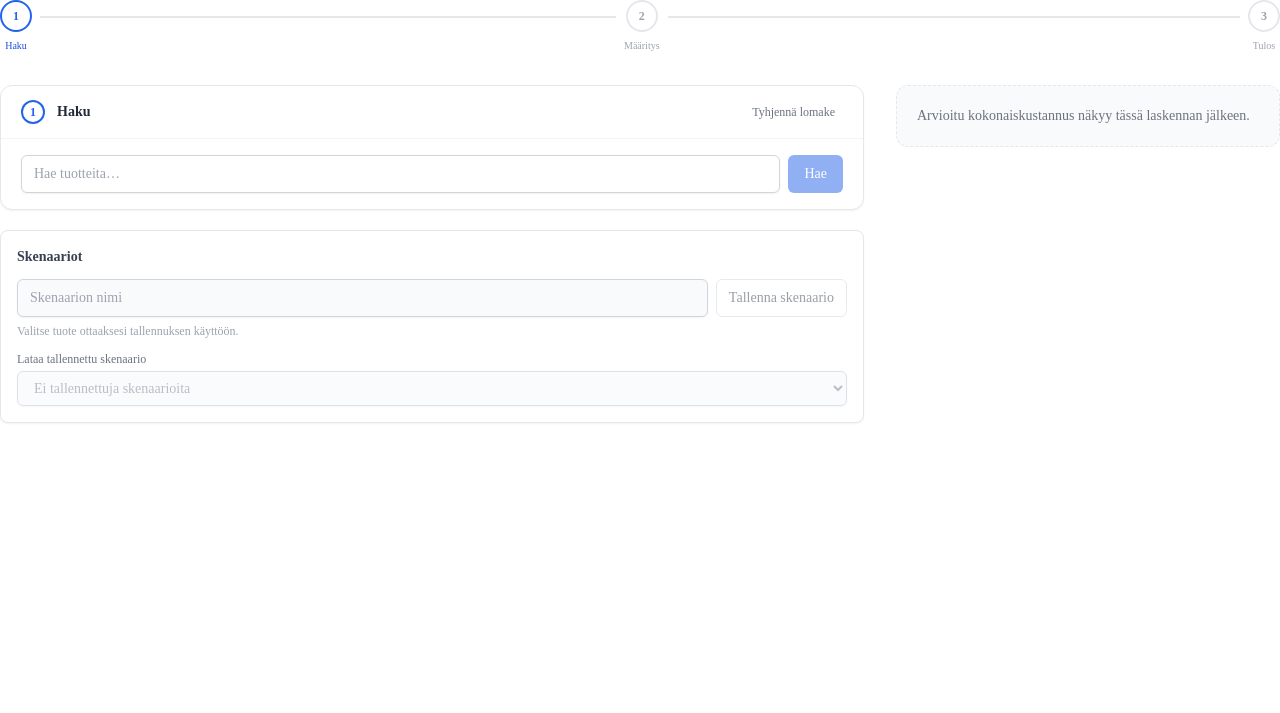
CalculatorPage age-gate recovery state (age-gate-recovery 3.4) › maps the age-gate 403 to the localized recovery copy and hides the raw message
This screenshot has width=1280, height=713.
Search → select the hit.
Type "renat" into the field with placeholder "Hae tuotteita…" at (401, 174), box [21,155,780,193]
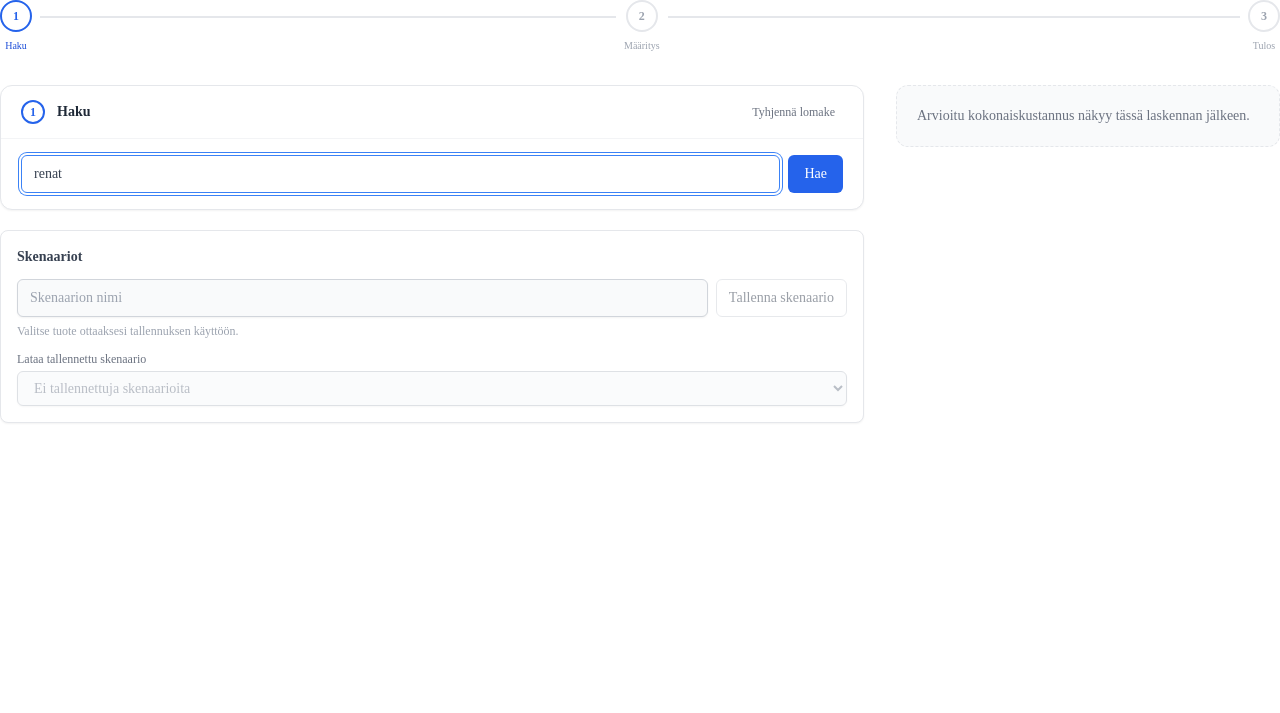
Click the button "Hae" at (816, 174), box [788,155,843,193]
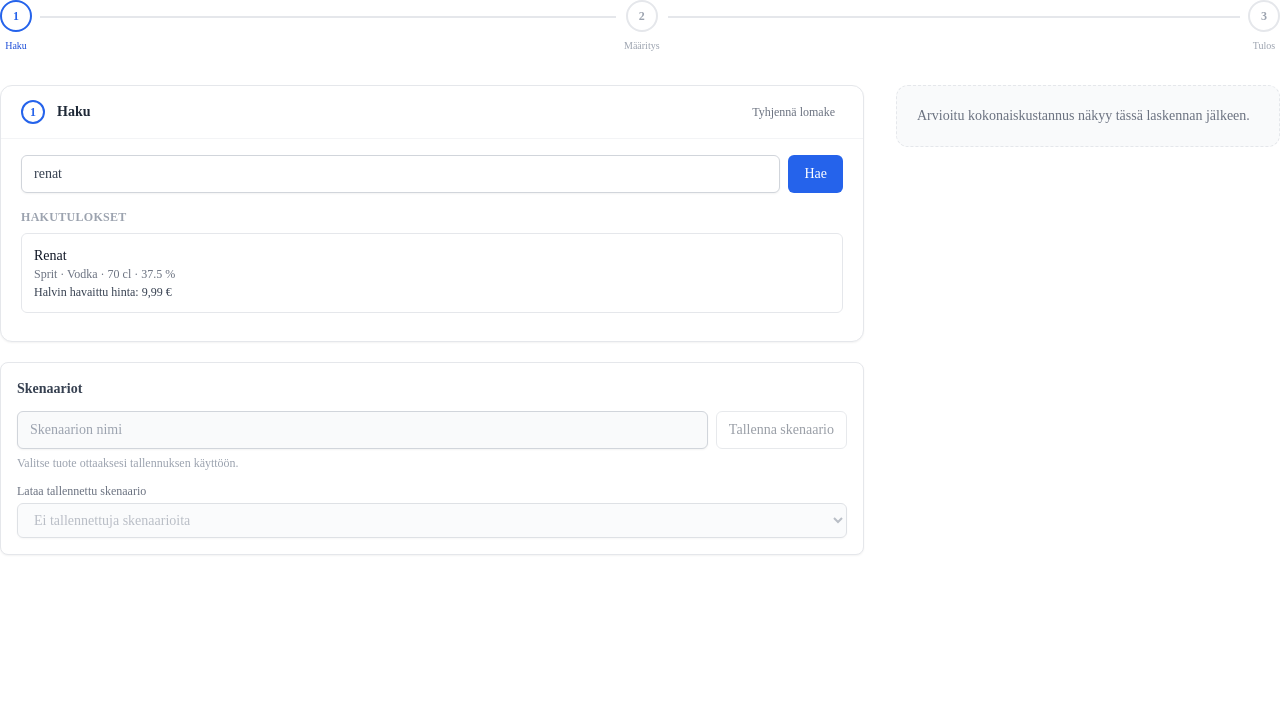
Click the button "Renat" at (50, 256), box [22,234,842,312]
(page scrolled)
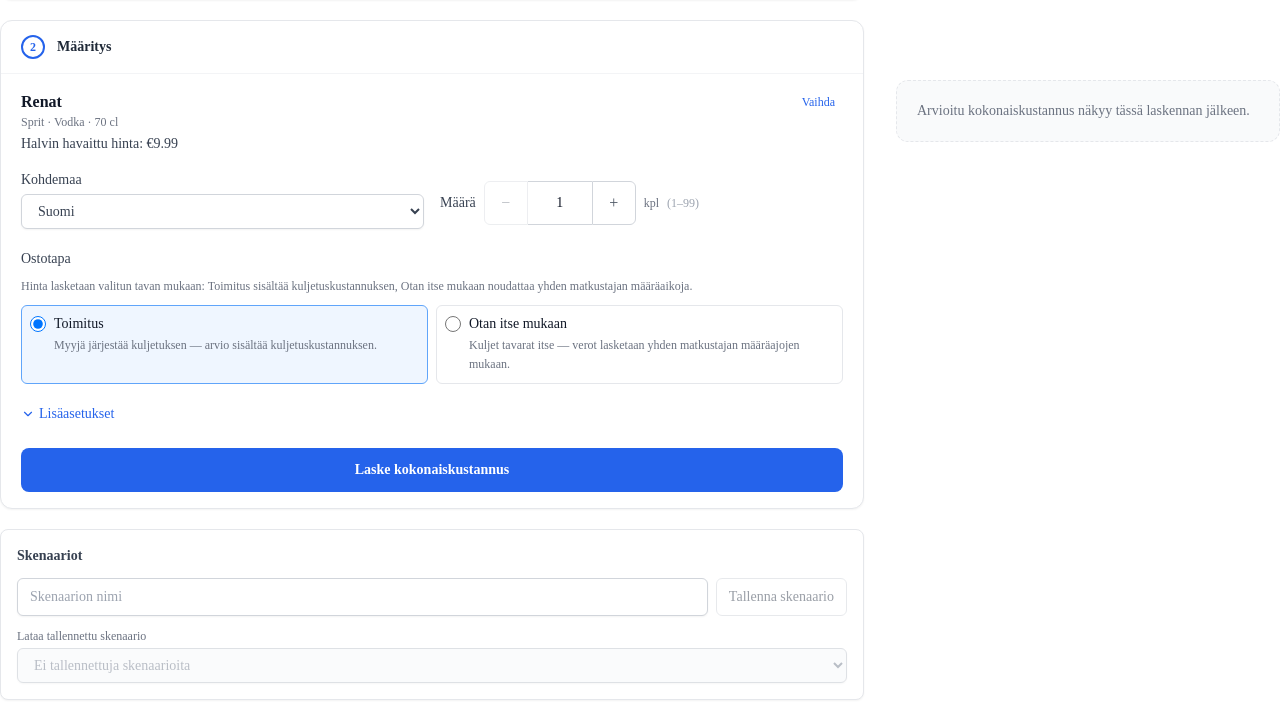
Calculate → 403 AGE_GATE_REQUIRED.
Click the button "Laske kokonaiskustannus" at (432, 470), box [21,448,843,492]
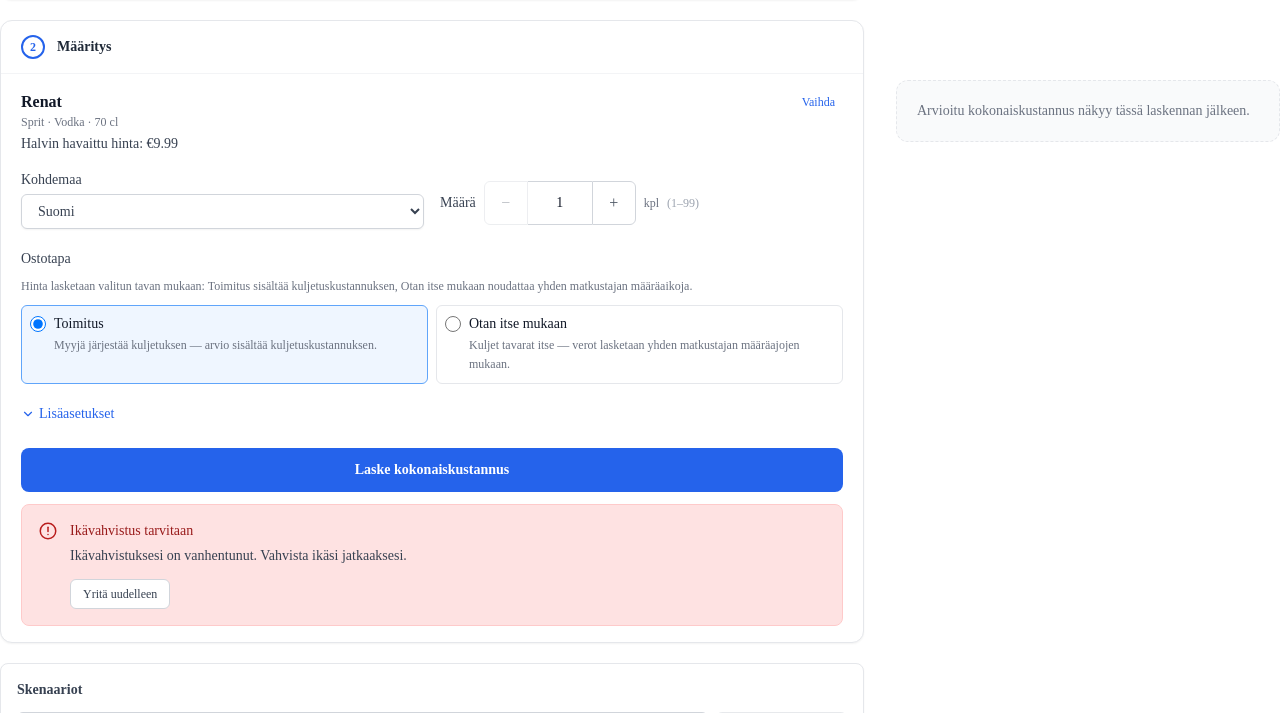
Expected: the text "Ikävahvistus tarvitaan" is shown, [70,522,193,538]
Expected: the text "Ikävahvistuksesi on vanhentunut. Vahvista ikäsi jatkaaksesi." is shown, [70,548,407,562]
Expected: the button "Yritä uudelleen" is shown, [70,579,170,609]
